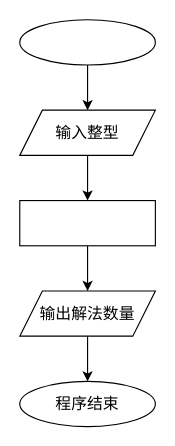
Some shapes in this 175 by 446 pixel diagram are drawn without their labels. The shapes that lost their labels are listed below. From the top down, each one's box as (x1, y1, x2, y2) in pixels, then its label:
(19, 19, 155, 65): 程序开始
(19, 199, 155, 246): 遍历所有可能解法 并计数
